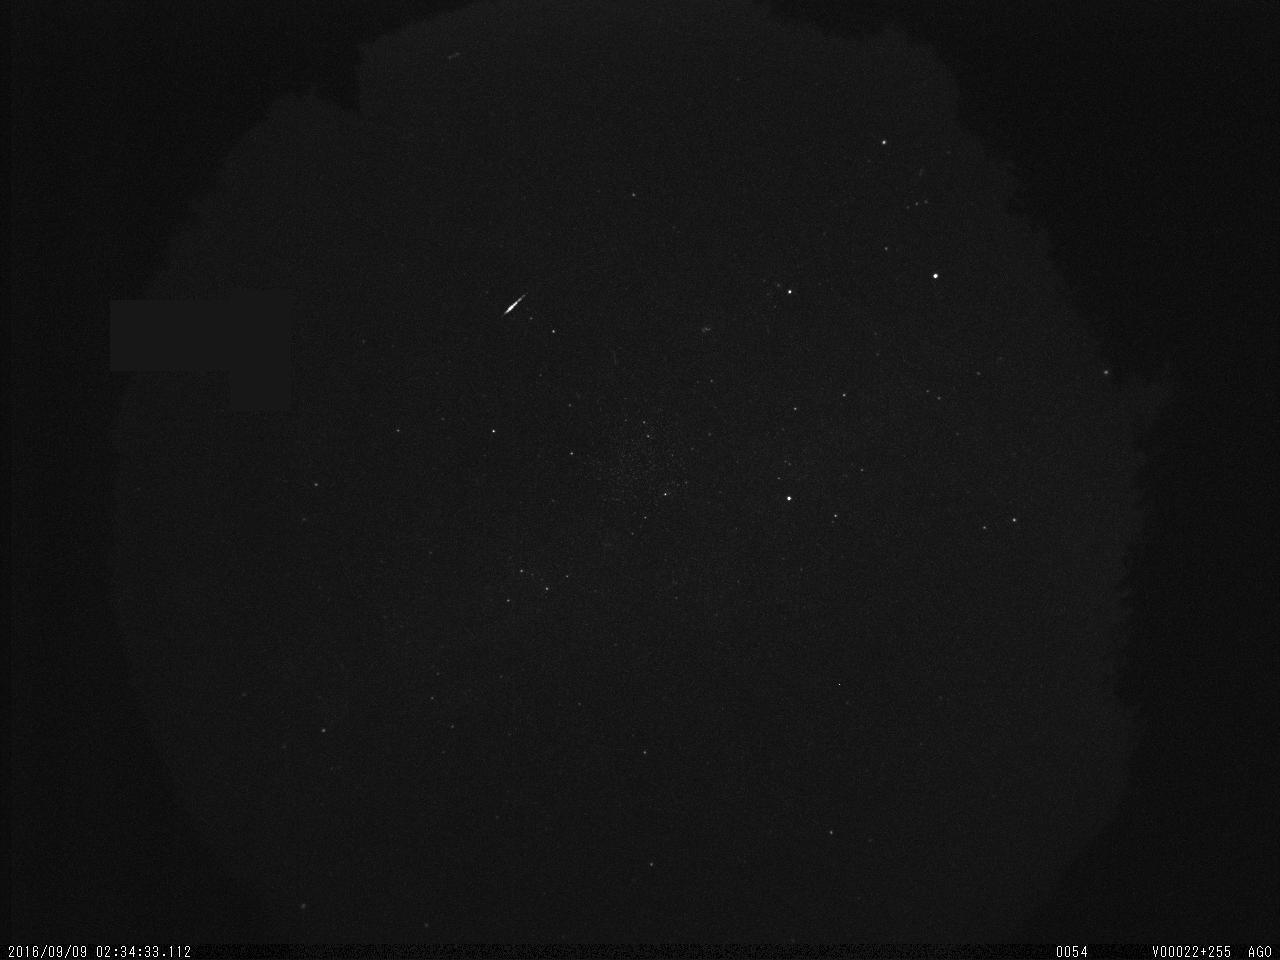meteor: (496, 290, 544, 320)
